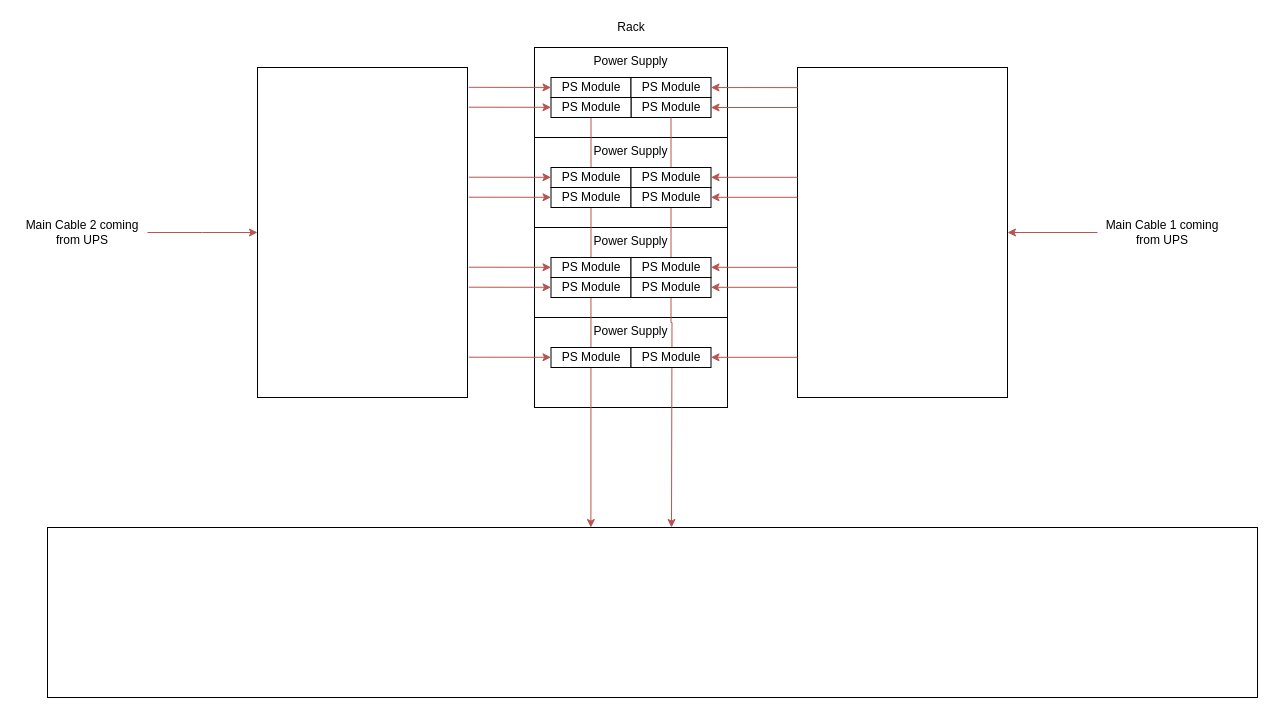
This 1275x715 diagram has some shape labels left out. The shapes that lost their labels are listed below. From the top down, each one's centre as x and y in pixels, then its label:
At point 362,232: "PDUs for Redundant Power Supplies".
At point 902,232: "PDUs for Main Power Supplies".
At point 652,612: "LED Screen 21m x 1.3m".
